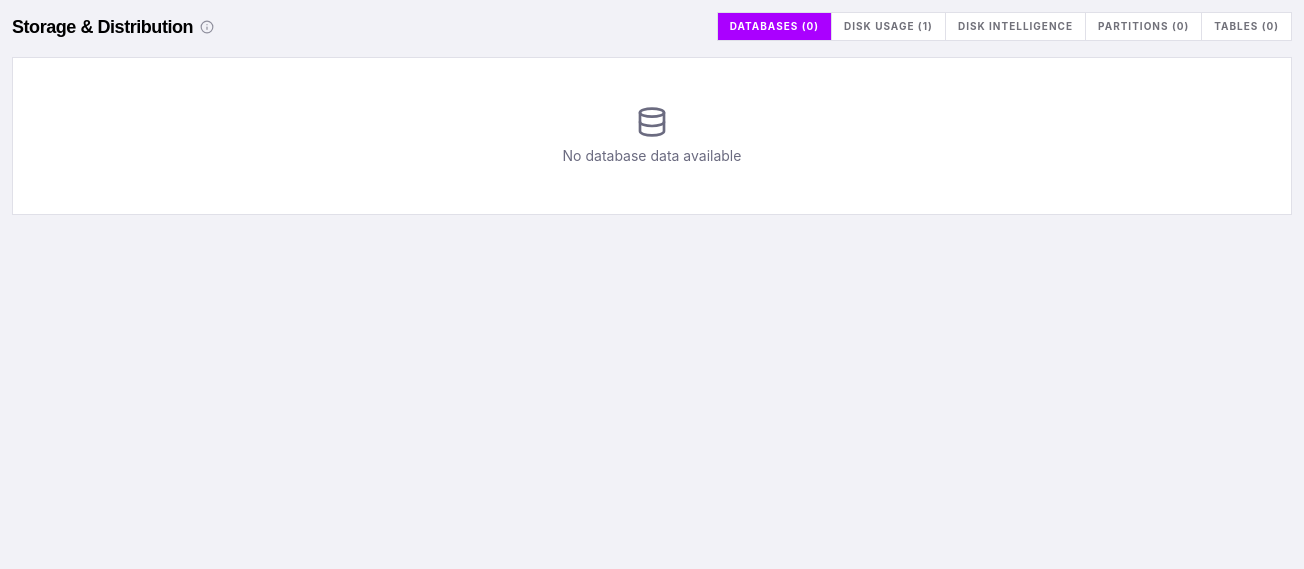
Test case: StorageDistribution › renders CLUSTER OVERHEAD child buckets when present
Click the button with test id "storage-tab-disk": [889, 26] box [832,13,946,40]
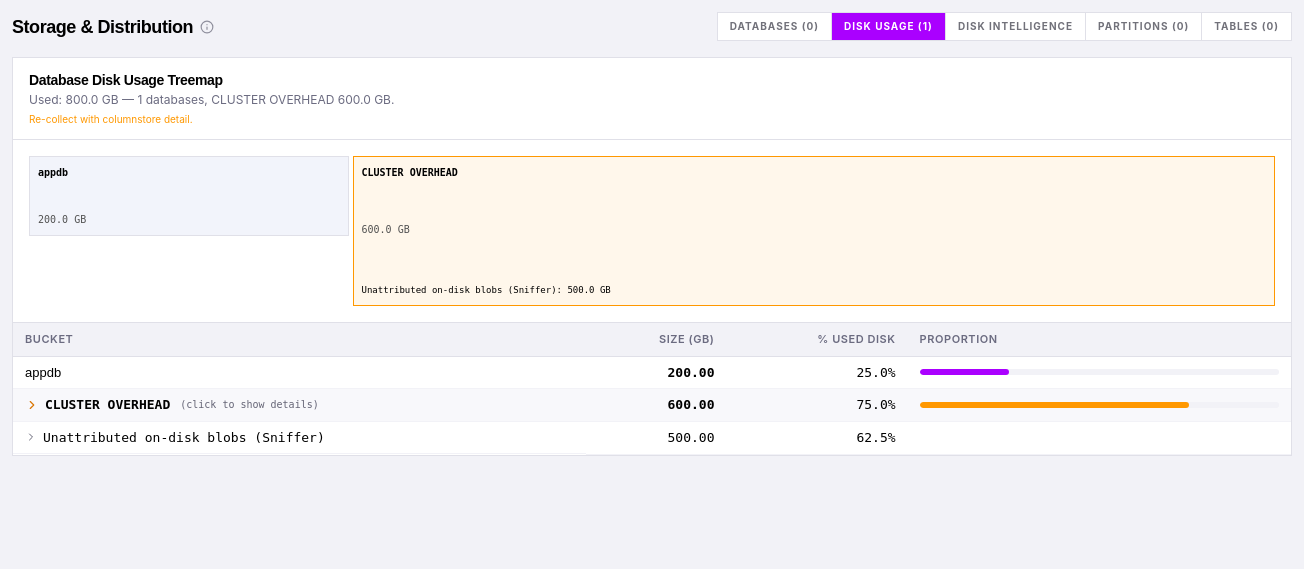
Now the element with test id "treemap-cluster-overhead" is shown, box [352,156,1275,306]
Now the row with test id "overhead-parent-row" shows "CLUSTER OVERHEAD", box [45,397,170,412]
Now the row with test id "overhead-child-unreferenced_blobs" is shown, box [13,422,1291,454]
Clicking parent row expands explanation
Click the row with test id "overhead-parent-row": [652, 405] box [13,388,1291,422]
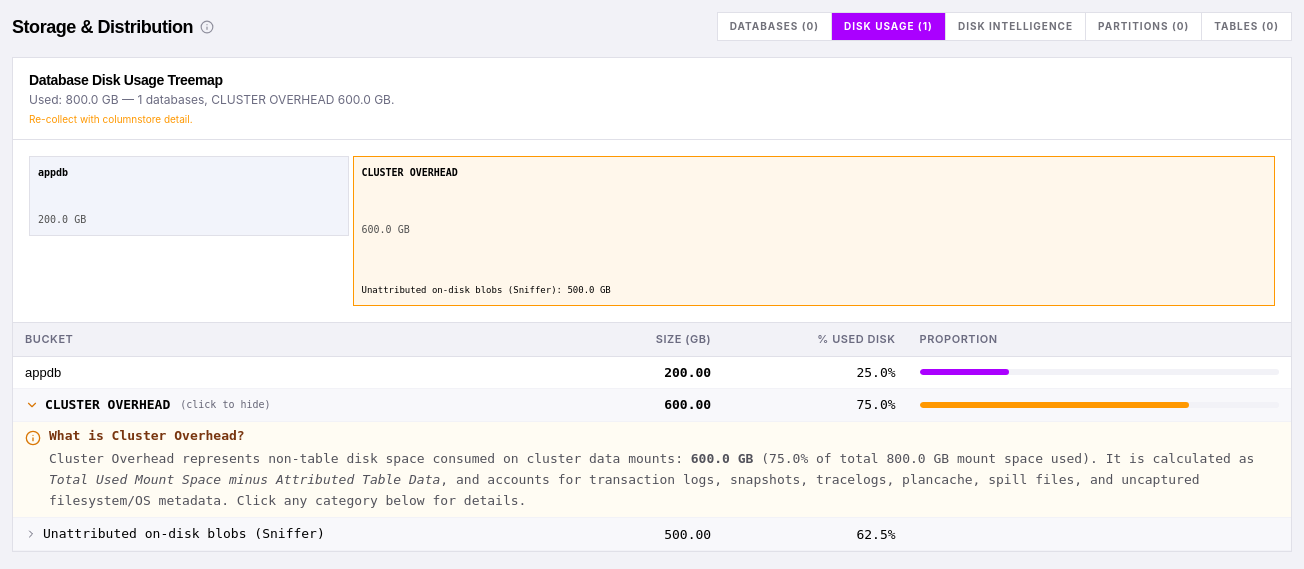
Now the row with test id "overhead-parent-detail" shows "What is Cluster Overhead?", box [49,428,245,443]
Clicking child row expands its detailed description
Click the row with test id "overhead-child-unreferenced_blobs": [652, 534] box [13,518,1291,551]
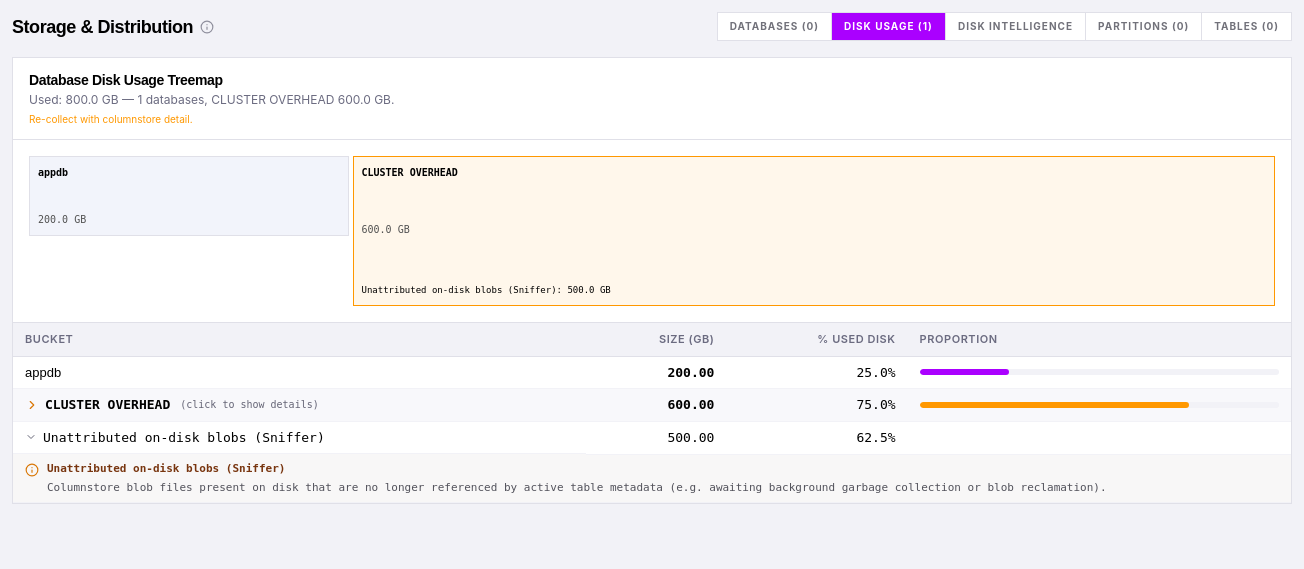
Now the row with test id "overhead-detail-unreferenced_blobs" shows "Columnstore blob files present on disk", box [47,480,1107,494]
